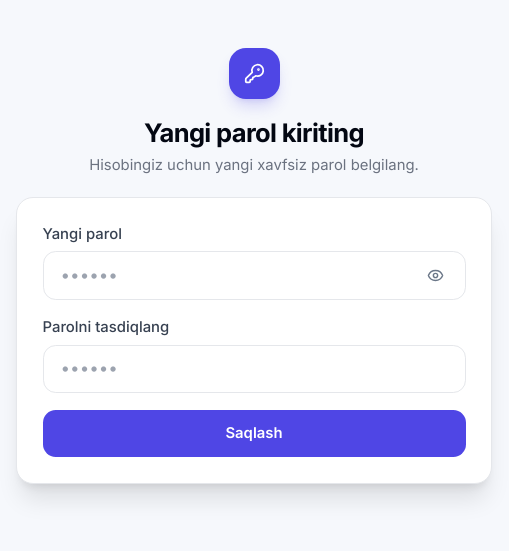
Test case: ResetPassword sahifasi › recovery token mavjud bo‘lsa parollar mos kelmasligini clientda tekshiradi
Type "secret123" into the password field labelled "Yangi parol" at [254, 276], box [42,251,466,300]
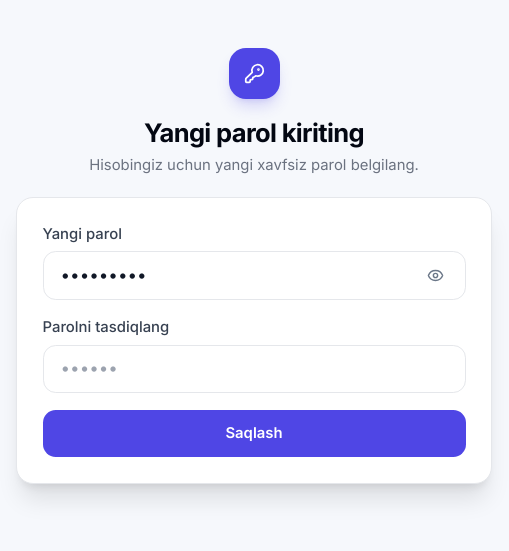
Type "different" into the password field labelled "Parolni tasdiqlang" at [254, 369], box [42,345,466,393]
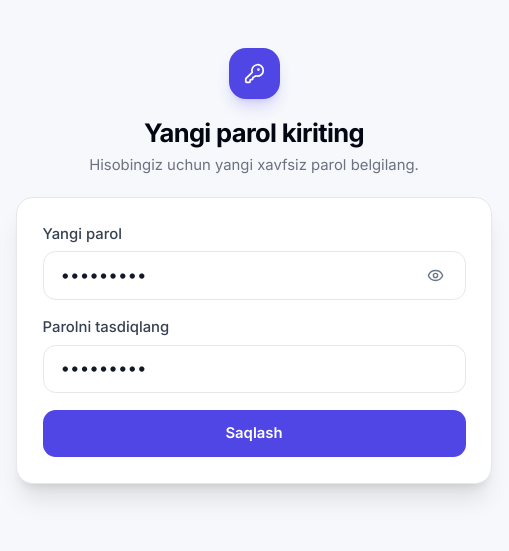
Submit the form labelled "Yangi parol", box [42,224,466,457]
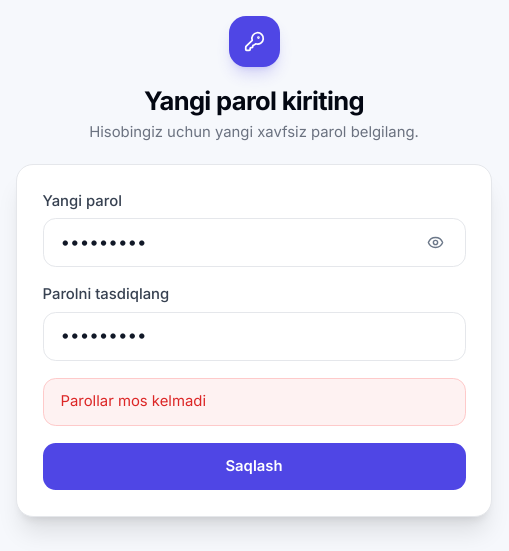
Expected: the message reads "Parollar mos kelmadi", [60,392,206,410]
